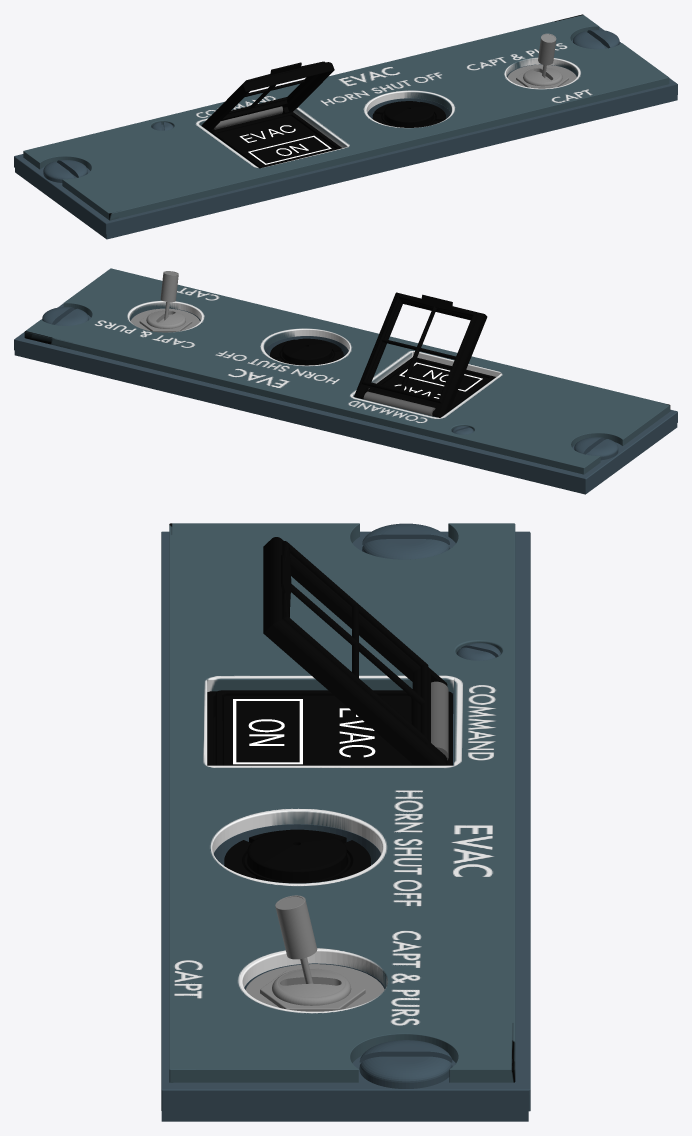
The model's file is evac_panel.glb.
3 views of the same model, one above another, from view 1: azimuth 30°, elevation 25°; view 2: azimuth 150°, elevation 25°; view 3: azimuth 270°, elevation 25° (orthographic). The views are drawn at different scales.
Parts seen in each view (by area): view 1: Plane.008, Plane.006, Plane.011, Plane.010, Cube.015, Cylinder.008, Cube.014, Cylinder.014, Cylinder.013, Cylinder.011, Cylinder.007, Cylinder.012 (+2 smaller); view 2: Plane.008, Plane.006, Plane.010, Plane.011, Cube.015, Cylinder.008, Cylinder.014, Cylinder.013, Cylinder.004, Cube.014, Cylinder.011, Cylinder.012 (+3 smaller); view 3: Plane.008, Plane.006, Plane.010, Cube.015, Cylinder.008, Plane.011, Cylinder.013, Cylinder.014, Cylinder.011, Cylinder.012, Cylinder.007, Cylinder.010 (+4 smaller).
Part boxes in pixels (x1=…): Plane.008: x1=23, y1=14, x2=669, y2=220; Plane.006: x1=14, y1=27, x2=677, y2=234; Plane.011: x1=15, y1=95, x2=677, y2=239; Plane.010: x1=201, y1=61, x2=334, y2=133; Cube.015: x1=218, y1=115, x2=336, y2=166; Cylinder.008: x1=384, y1=101, x2=433, y2=127; Cube.014: x1=212, y1=112, x2=340, y2=168; Cylinder.014: x1=43, y1=160, x2=87, y2=182; Cylinder.013: x1=573, y1=29, x2=619, y2=49; Cylinder.011: x1=523, y1=67, x2=562, y2=86; Cylinder.007: x1=372, y1=101, x2=445, y2=127; Cylinder.012: x1=538, y1=33, x2=556, y2=77; Plane.008: x1=24, y1=268, x2=670, y2=474; Plane.006: x1=14, y1=303, x2=677, y2=489; Plane.010: x1=354, y1=292, x2=487, y2=417; Plane.011: x1=14, y1=350, x2=677, y2=494; Cube.015: x1=372, y1=360, x2=488, y2=407; Cylinder.008: x1=282, y1=338, x2=331, y2=364; Cylinder.014: x1=574, y1=437, x2=618, y2=460; Cylinder.013: x1=42, y1=307, x2=88, y2=325; Cylinder.004: x1=363, y1=391, x2=435, y2=415; Cube.014: x1=368, y1=357, x2=493, y2=410; Cylinder.011: x1=146, y1=310, x2=185, y2=328; Cylinder.012: x1=160, y1=271, x2=178, y2=320; Plane.008: x1=169, y1=523, x2=515, y2=1082; Plane.006: x1=161, y1=531, x2=530, y2=1111; Plane.010: x1=263, y1=537, x2=447, y2=765; Cube.015: x1=223, y1=695, x2=411, y2=765; Cylinder.008: x1=247, y1=829, x2=346, y2=881; Plane.011: x1=161, y1=714, x2=528, y2=1121; Cylinder.013: x1=359, y1=1040, x2=452, y2=1088; Cylinder.014: x1=362, y1=523, x2=450, y2=559; Cylinder.011: x1=272, y1=968, x2=351, y2=1005; Cylinder.012: x1=275, y1=895, x2=317, y2=983; Cylinder.007: x1=224, y1=830, x2=370, y2=883; Cylinder.010: x1=245, y1=964, x2=384, y2=1008.
Size of the model in its own units: 2.17 by 0.3859 by 0.6063.
6 materials, 1 textured.
